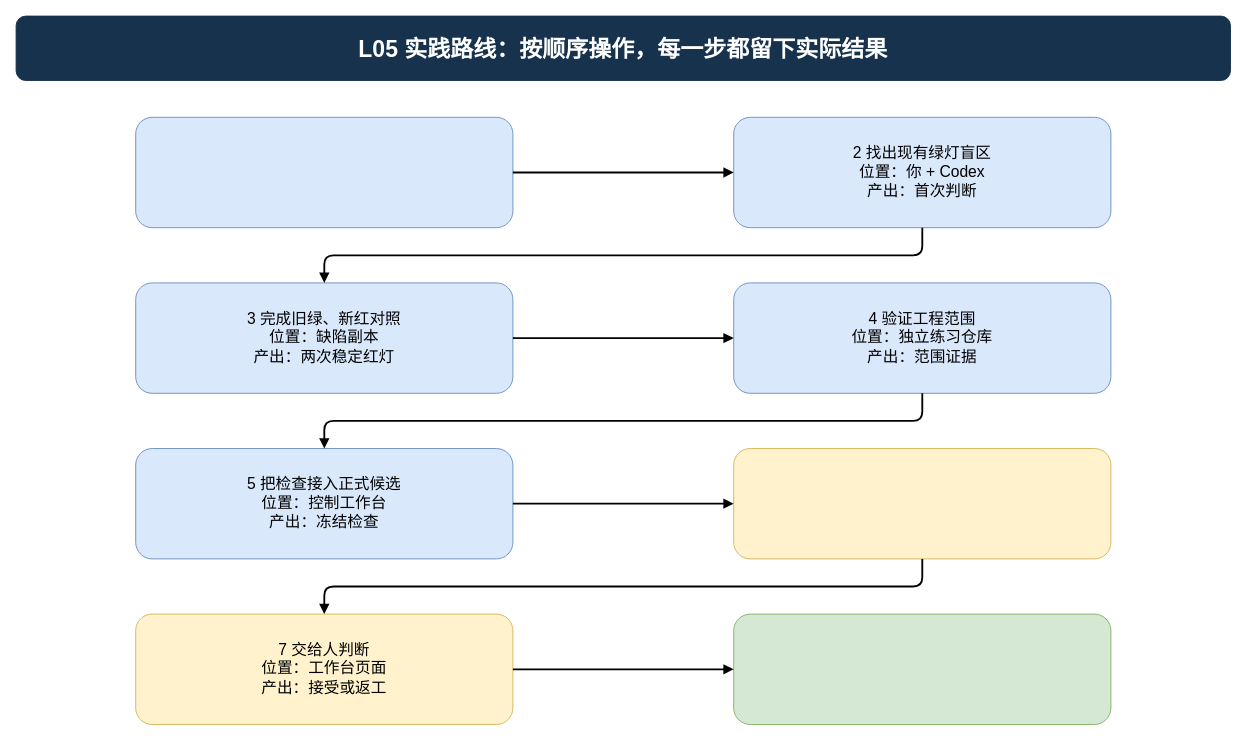
The diagram is 1247 pixels wide and 741 high, and some of its shapes have lost their labels. The centre of each missing label's shape, as x and y in pixels:
"1 进入自己的工作台 位置：控制仓库 产出：L05 会话" belongs at [324,172].
"6 修复并复验 位置：正式候选 产出：红转绿证据" belongs at [922,503].
"8 排错与迁移 位置：你 产出：迁移结论" belongs at [922,668].
